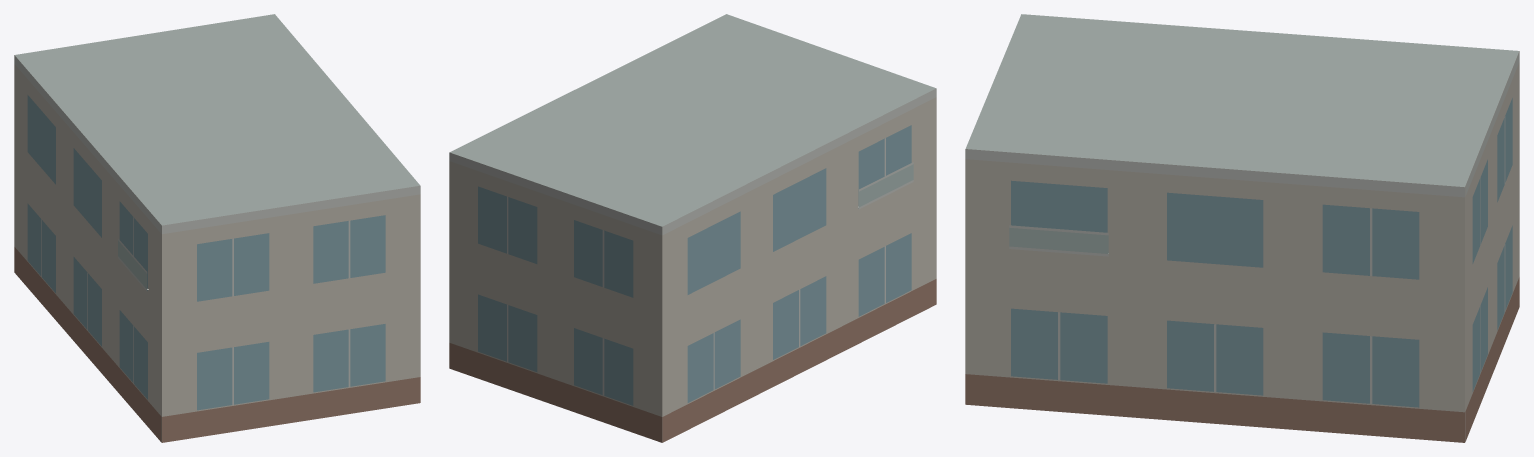
The model's file is survey-upis-32577328.glb.
The picture shows the model from 3 angles, left to right: view 1: azimuth 30°, elevation 25°; view 2: azimuth 150°, elevation 25°; view 3: azimuth 270°, elevation 25°; orthographic projection. The views are drawn at different scales.
Parts seen in each view (by area): view 1: survey-upis-32577328.tmp; view 2: survey-upis-32577328.tmp; view 3: survey-upis-32577328.tmp.
Boxes of the visible parts, x1=… form: survey-upis-32577328.tmp: x1=14, y1=14, x2=420, y2=442; survey-upis-32577328.tmp: x1=449, y1=14, x2=936, y2=442; survey-upis-32577328.tmp: x1=965, y1=14, x2=1519, y2=442.
Size of the model in its own units: 8.87 by 6.1 by 11.99.
